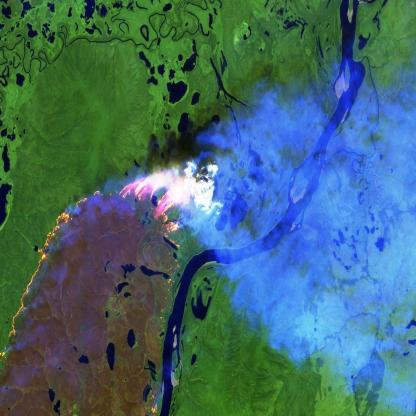fire: (0, 158, 225, 416)
